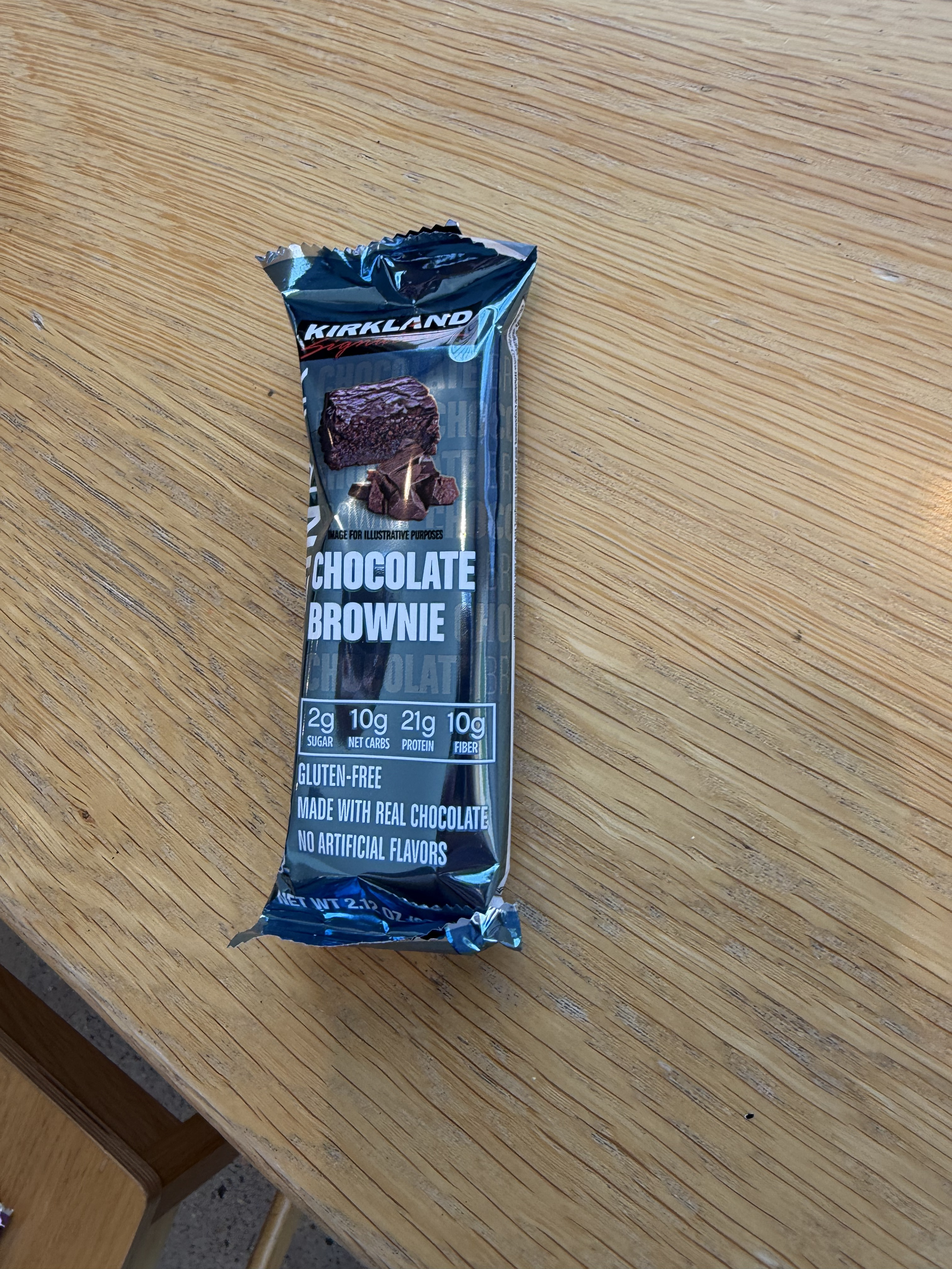chocolate_brownie: (215, 211, 562, 1001)
